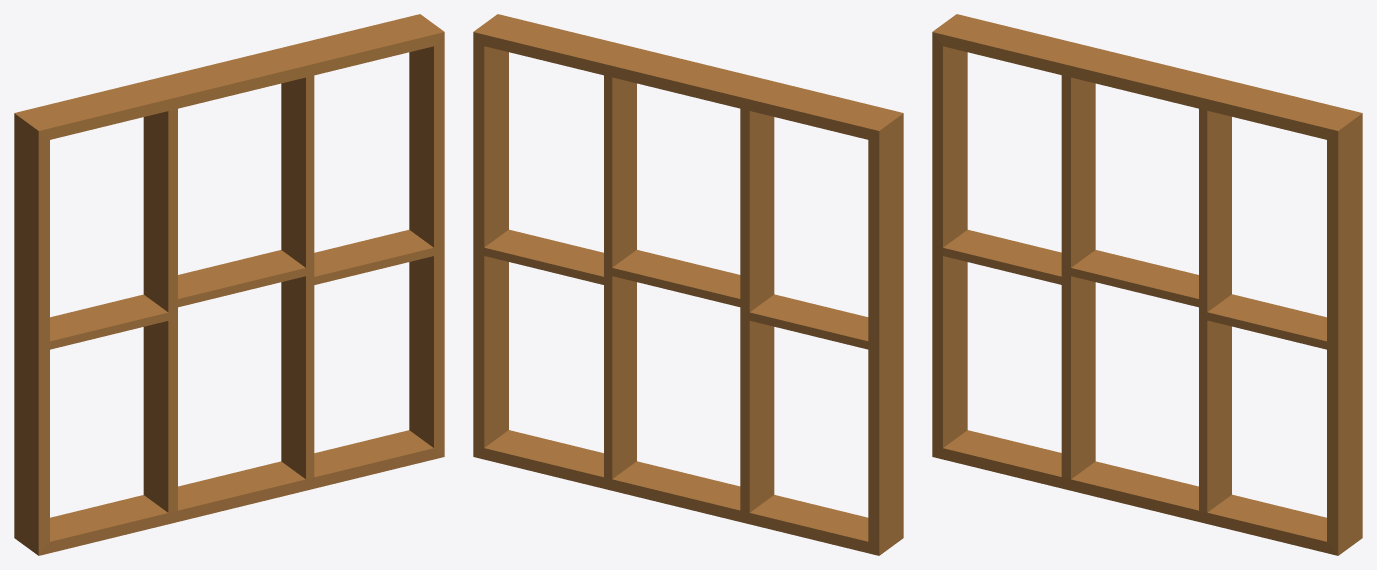
3 views of the same model, side by side, from view 1: azimuth 30°, elevation 25°; view 2: azimuth 150°, elevation 25°; view 3: azimuth 330°, elevation 25° (orthographic).
Parts seen in each view (by area): view 1: I-3; view 2: I-3; view 3: I-3.
Boxes of the visible parts, bbox=[...] form: I-3: bbox=[14, 14, 444, 555]; I-3: bbox=[473, 14, 903, 555]; I-3: bbox=[932, 14, 1362, 555].
Size of the model in its own units: 612 by 612 by 64.44.
